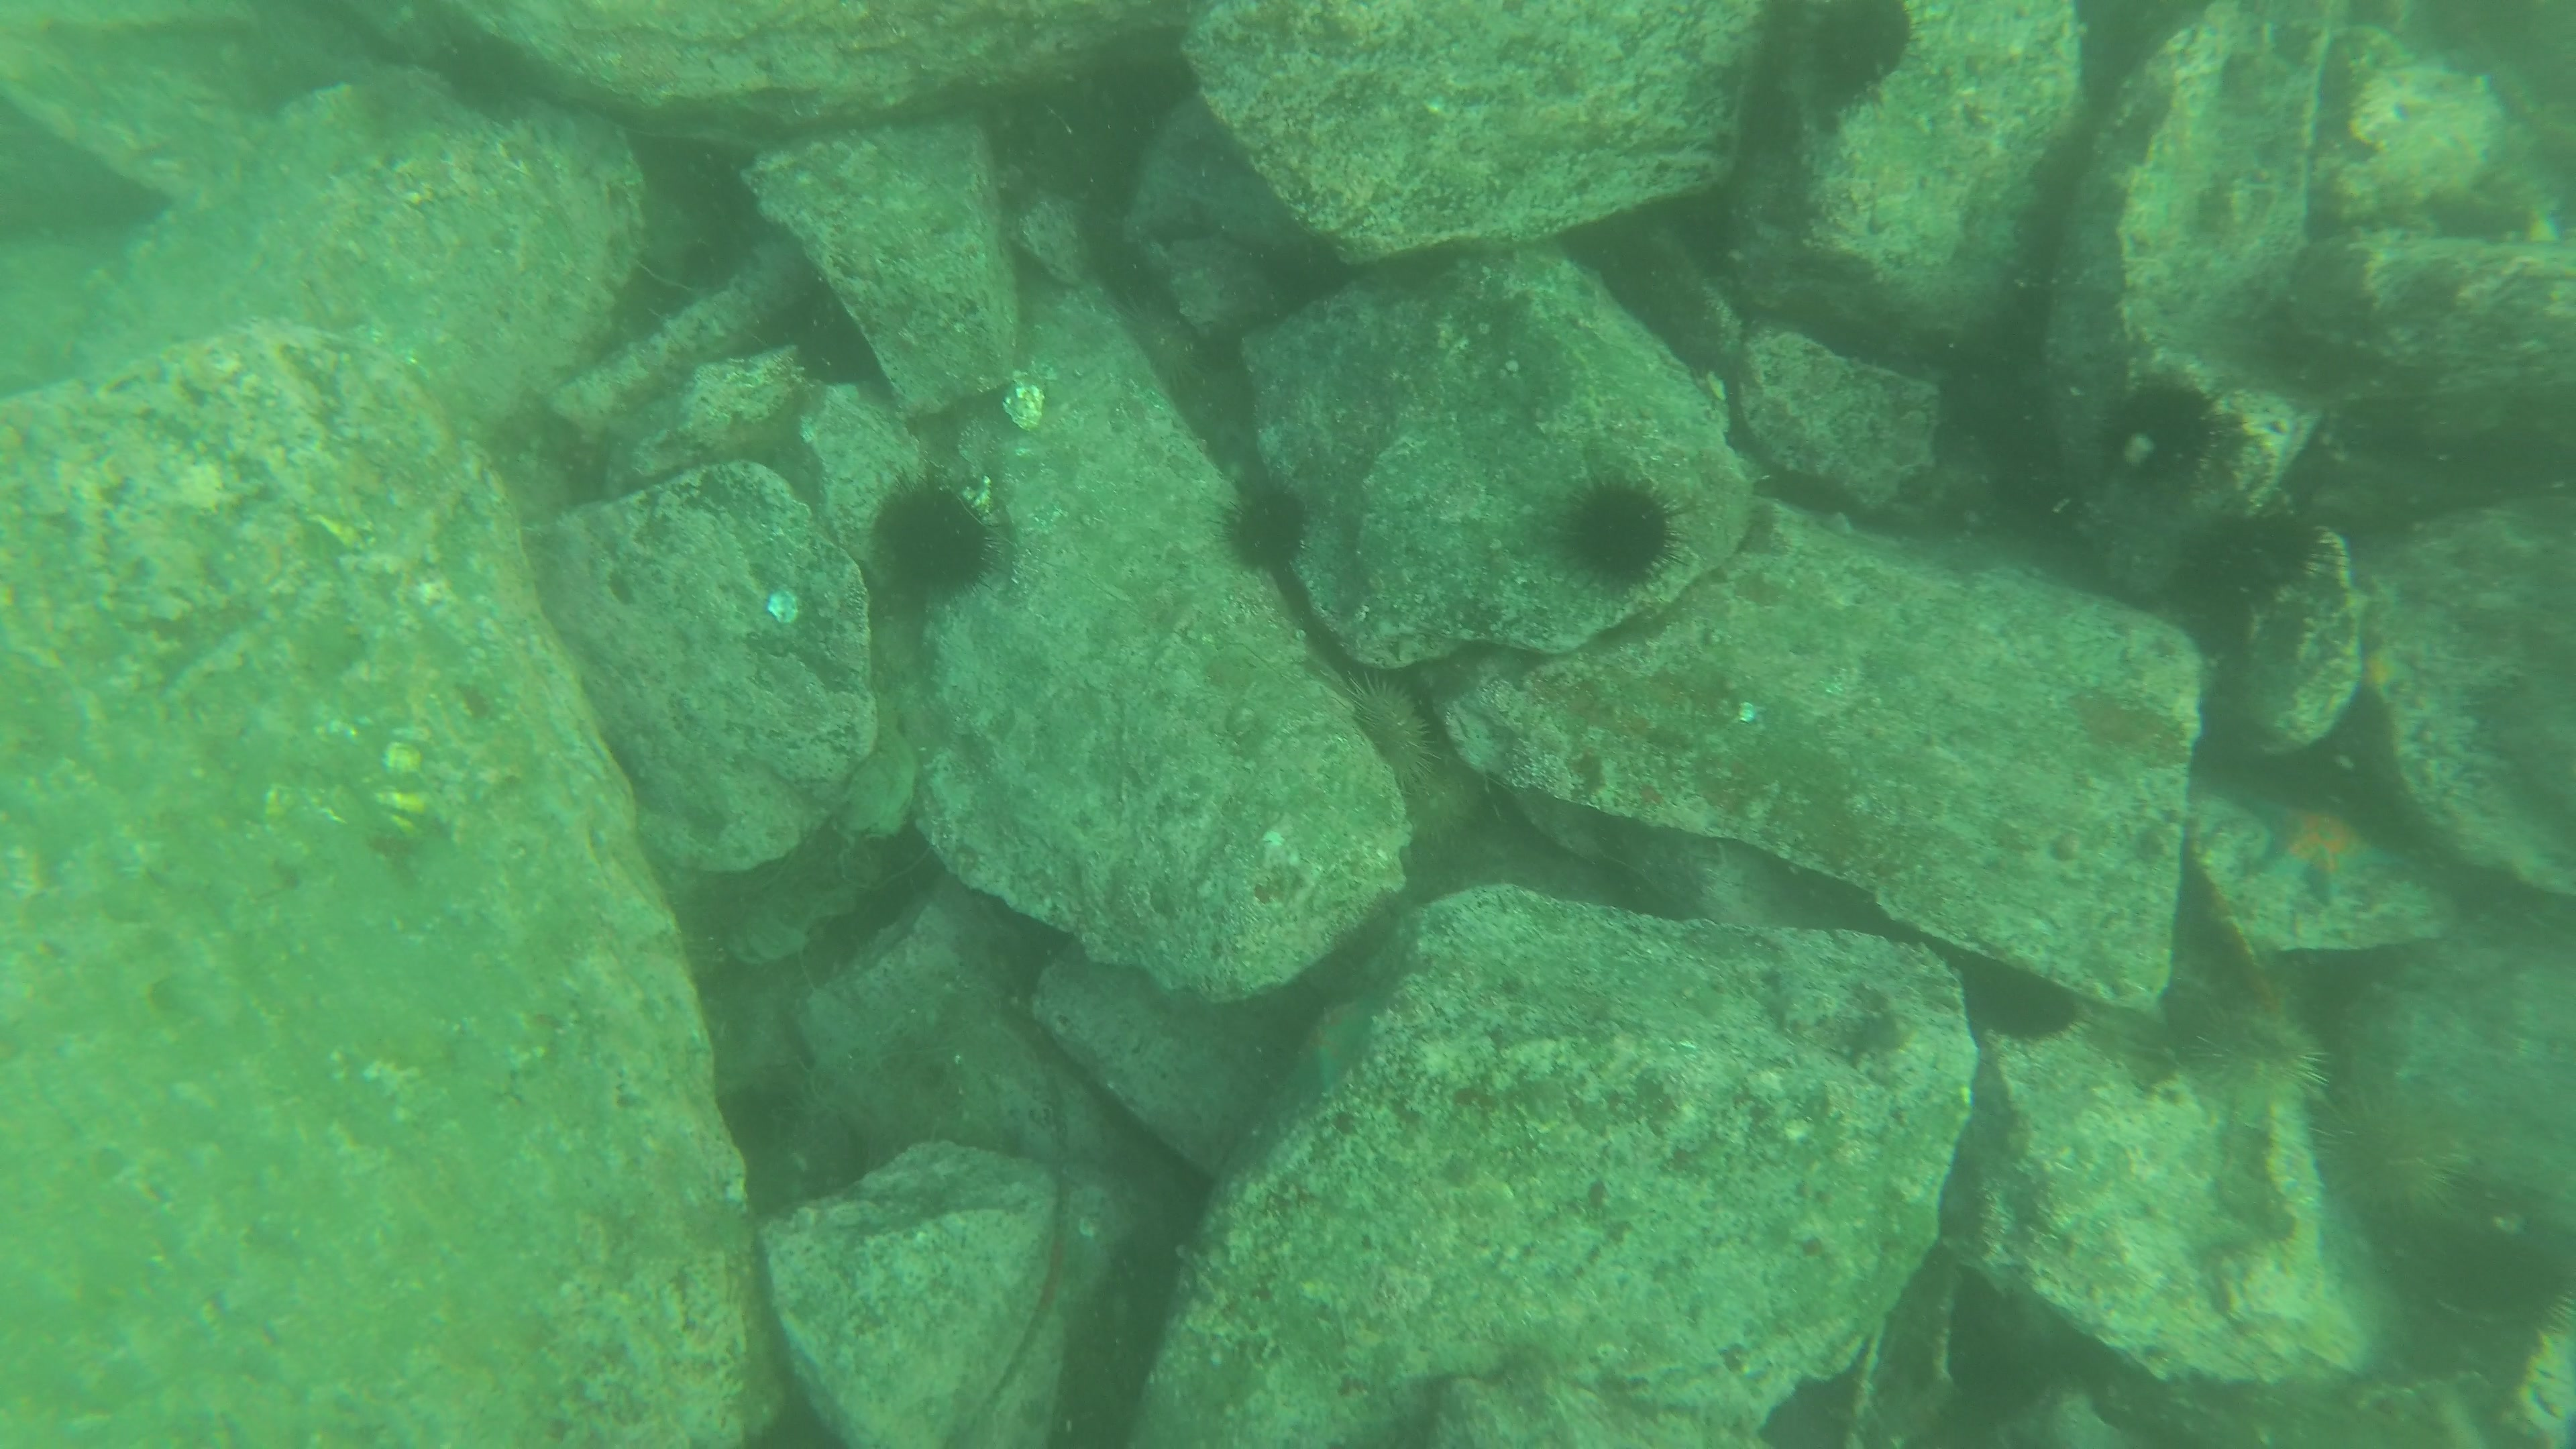echinus: (872, 479, 994, 596), (2196, 1007, 2323, 1102), (1566, 481, 1684, 582), (2112, 380, 2220, 487), (1343, 678, 1440, 793), (1971, 962, 2084, 1047), (1219, 474, 1313, 568)
starfish: (2254, 789, 2401, 902)
